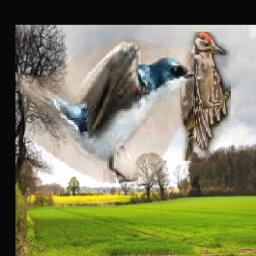Swallow: (16, 37, 194, 185)
Woodpecker: (181, 32, 232, 161)
